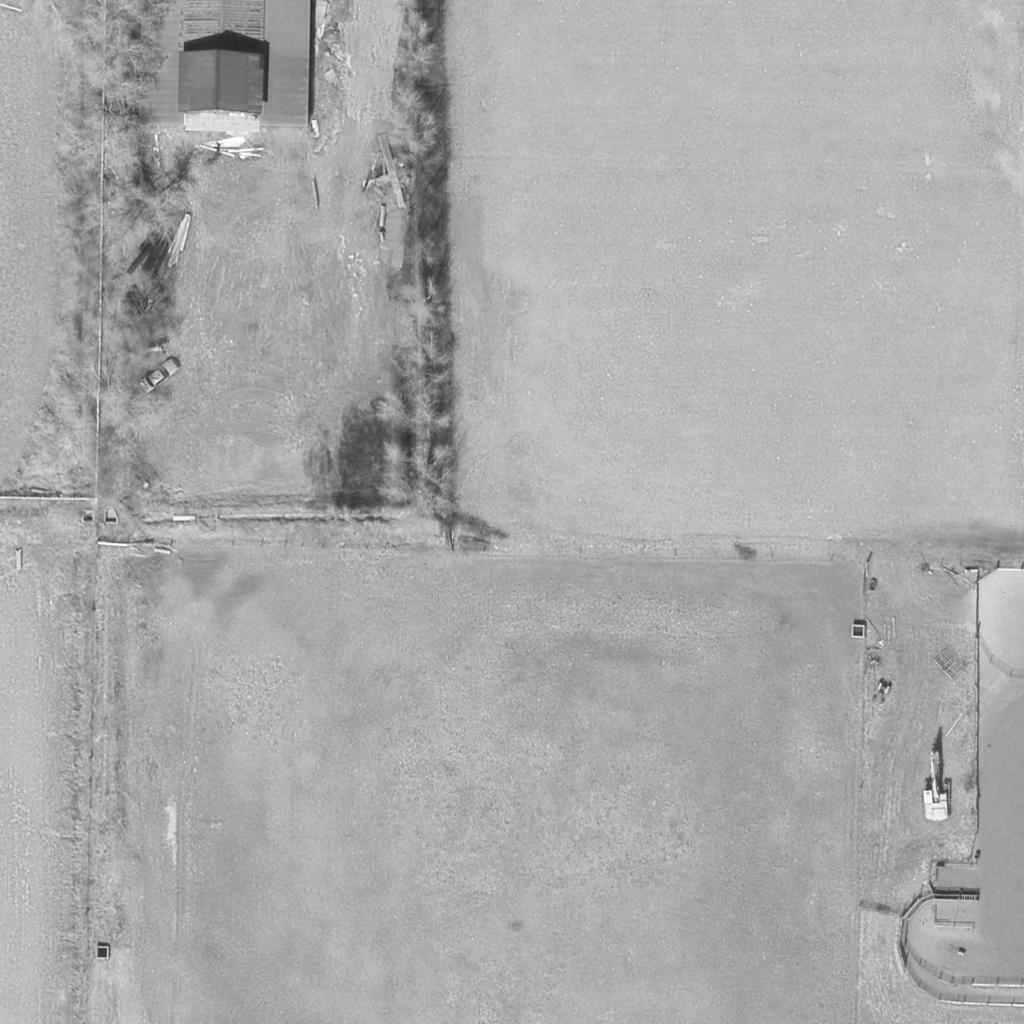vehicle: (138, 358, 180, 394), (923, 778, 953, 820), (869, 683, 891, 705)
